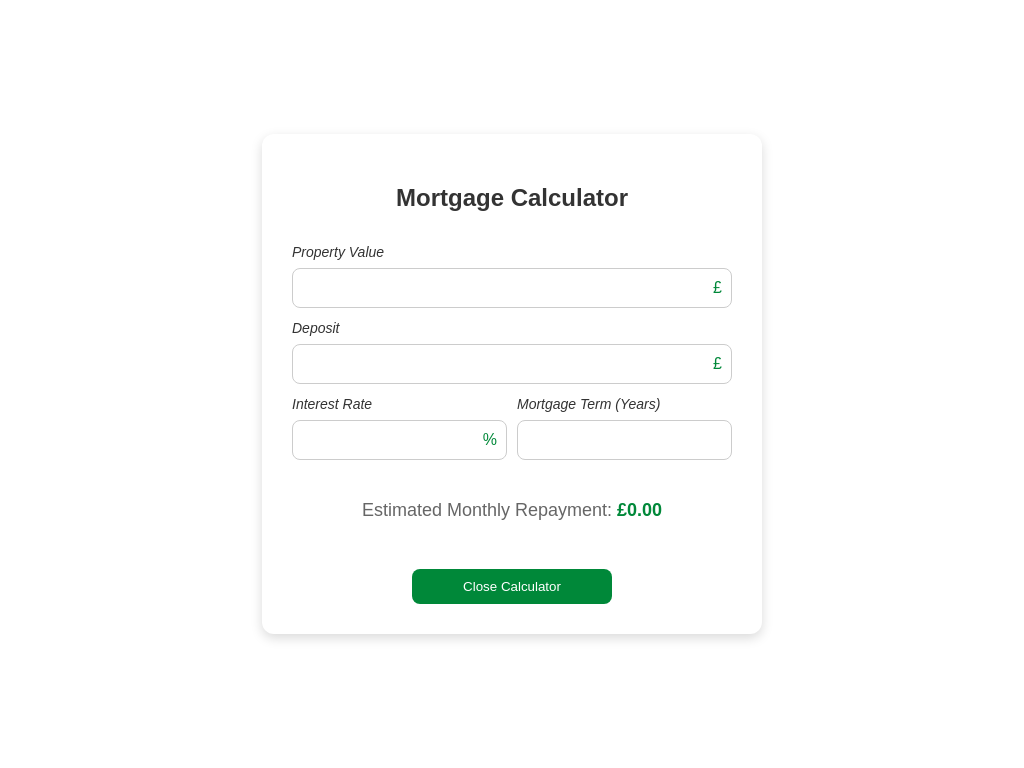
Test: MortgageCalculator › MortgageCalculator Component › displays error message when property value <= deposit
The width and height of the screenshot is (1024, 768).
Type "20000" into the number field labelled "Property Value" at (512, 288), box [292,268,732,308]
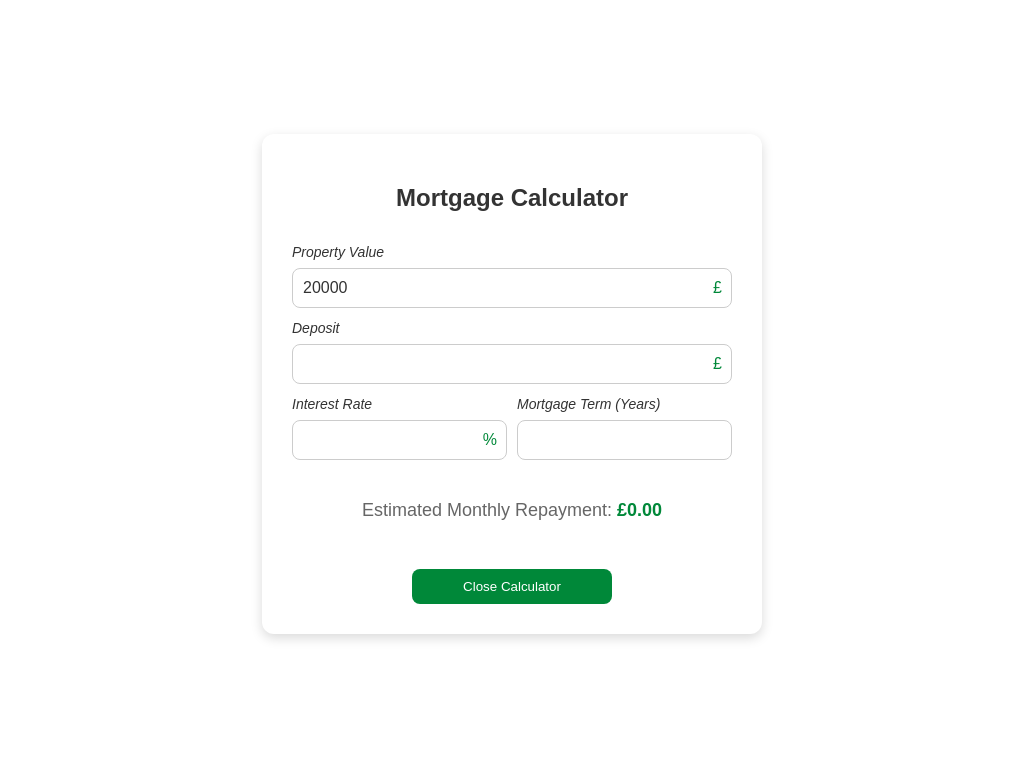
Type "50000" into the number field labelled "Deposit" at (512, 364), box [292,344,732,384]
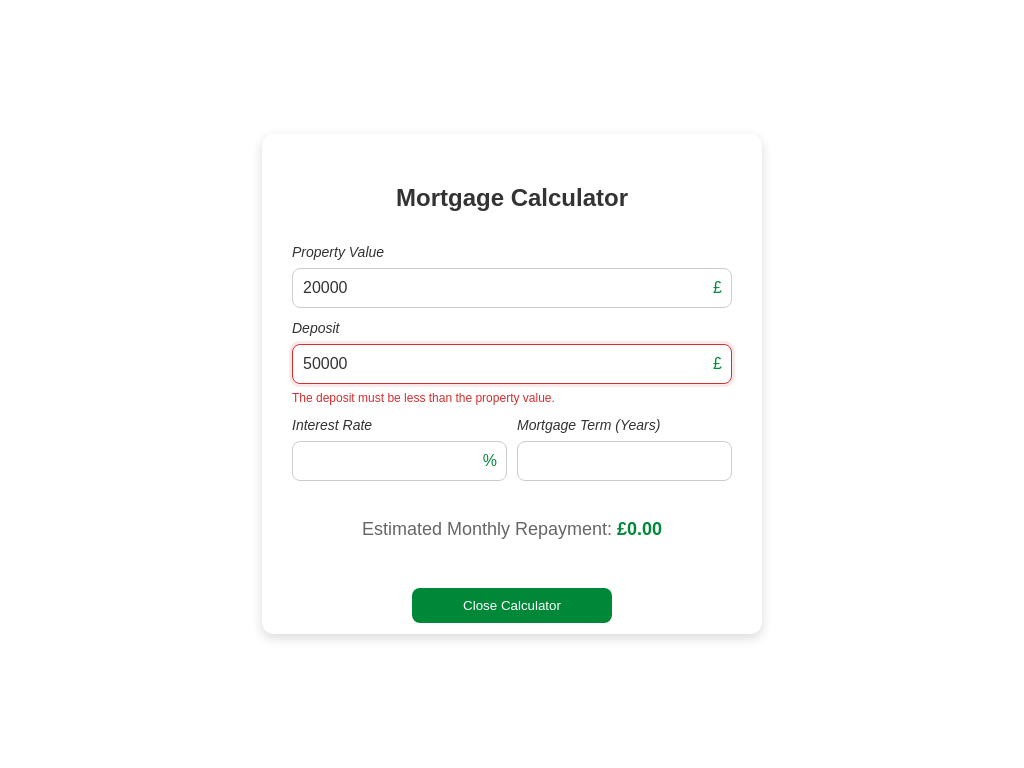
Leave the number field labelled "Property Value", box [292,268,732,308]
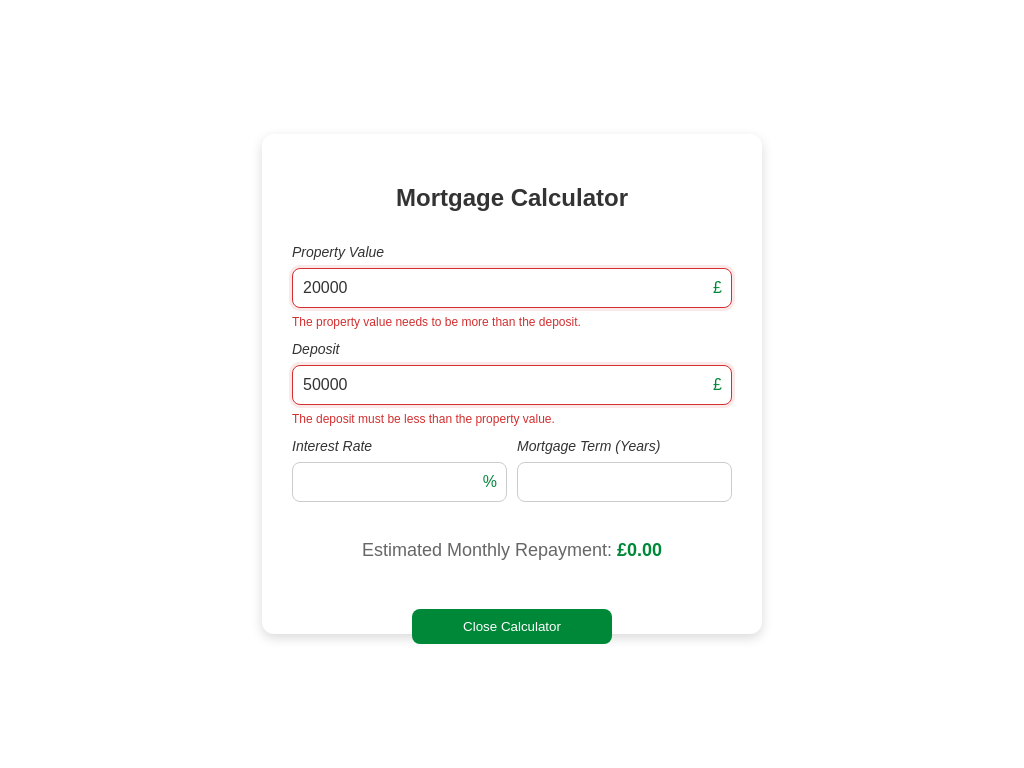
Expected: the text "The property value needs to be more than the deposit." is shown, [292,315,581,329]
